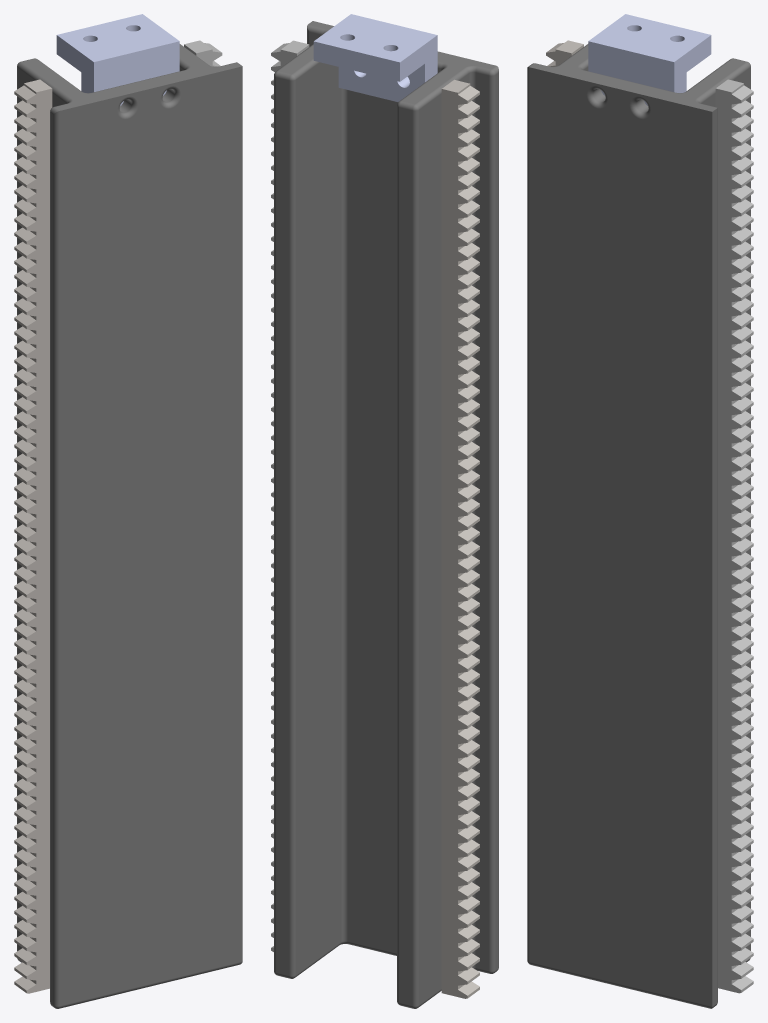
File: telescope3.dae
The picture shows the model from 3 angles, left to right: view 1: azimuth 30°, elevation 25°; view 2: azimuth 150°, elevation 25°; view 3: azimuth 330°, elevation 25°; orthographic projection.
Visible parts, largest first — view 1: Body_1, Body_2, Body_4, Body_3; view 2: Body_1, Body_2, Body_4, Body_3; view 3: Body_1, Body_3, Body_4, Body_2.
Boxes of the visible parts, x1,y1,x2,y2 form: Body_1: (17, 44, 242, 1008); Body_2: (14, 79, 52, 993); Body_4: (56, 14, 179, 105); Body_3: (184, 40, 222, 66); Body_1: (274, 21, 498, 1008); Body_2: (441, 79, 479, 998); Body_4: (313, 14, 437, 101); Body_3: (271, 40, 309, 951); Body_1: (527, 44, 750, 1008); Body_3: (715, 79, 753, 993); Body_4: (588, 14, 711, 105); Body_2: (546, 40, 583, 66).
Bounding box in the file's own units: 0.0455 × 0.025 × 0.2063.
